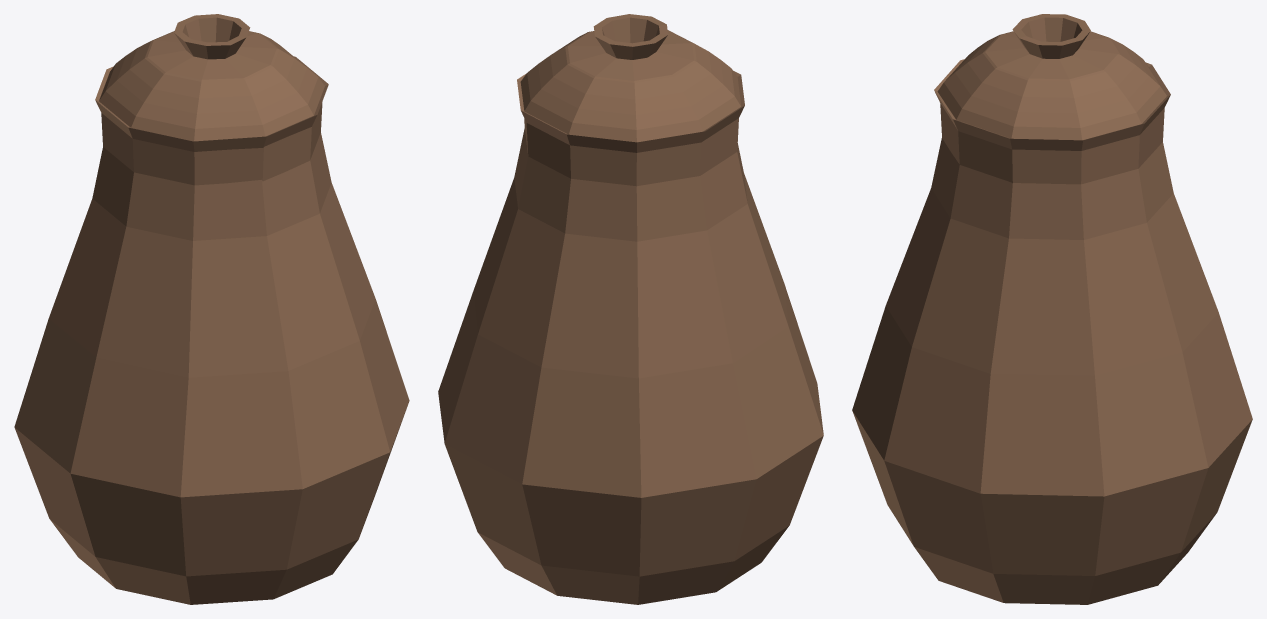
Rendered from Kendi Utuh.fbx.
3 views of the same model, side by side, from view 1: azimuth 30°, elevation 25°; view 2: azimuth 150°, elevation 25°; view 3: azimuth 270°, elevation 25° (orthographic).
Visible parts, largest first — view 1: MilkJar1.002; view 2: MilkJar1.002; view 3: MilkJar1.002.
Boxes of the visible parts, box(x1,y1,x2,y2) form: MilkJar1.002: box(14, 14, 409, 604); MilkJar1.002: box(438, 14, 823, 604); MilkJar1.002: box(852, 14, 1252, 604).
Bounding box in the file's own units: 388 × 575 × 402.
